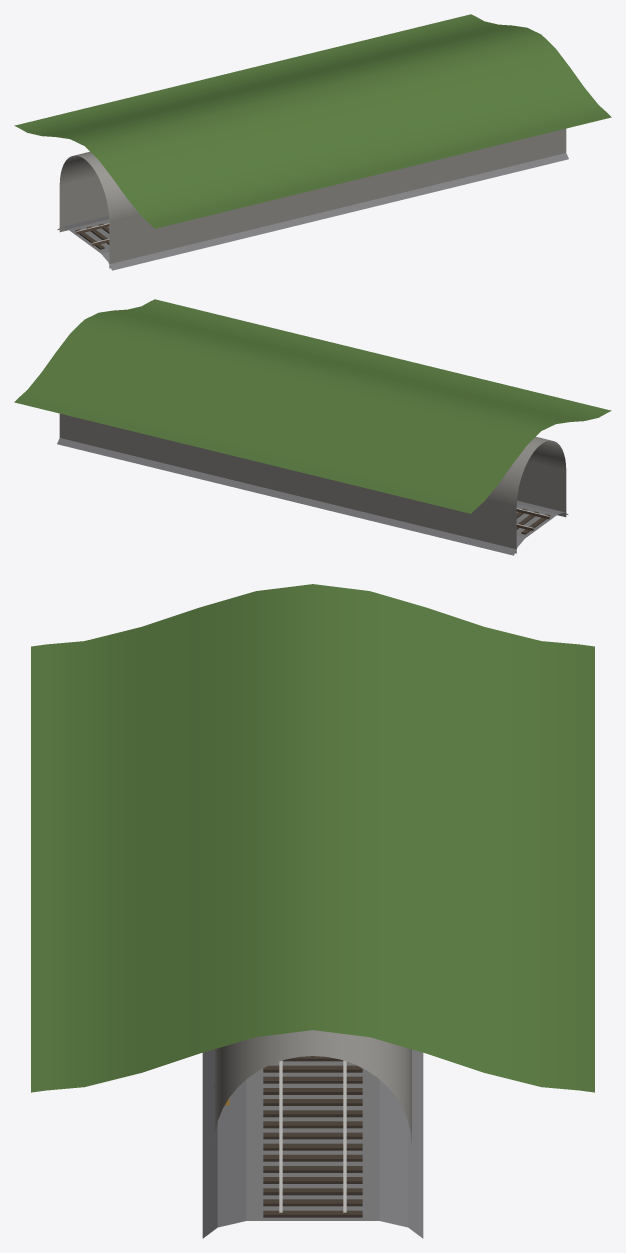
File: rail_tunnel_bore.glb
3 views of the same model, one above another, from view 1: azimuth 30°, elevation 25°; view 2: azimuth 150°, elevation 25°; view 3: azimuth 270°, elevation 25° (orthographic). The views are drawn at different scales.
Visible parts, largest first — view 1: rail_tunnel_bore_lod0; view 2: rail_tunnel_bore_lod0; view 3: rail_tunnel_bore_lod0.
Boxes of the visible parts, bbox=[...] form: rail_tunnel_bore_lod0: bbox=[14, 14, 611, 270]; rail_tunnel_bore_lod0: bbox=[14, 299, 611, 555]; rail_tunnel_bore_lod0: bbox=[31, 584, 594, 1238].
Size of what is drawn, in the model's own units: 27.71 by 6.05 by 14.8.
